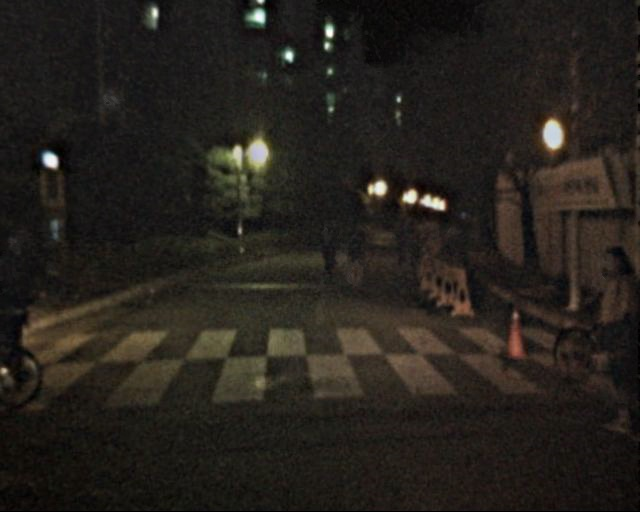person: (576, 246, 640, 430), (310, 220, 338, 289), (339, 221, 367, 289), (390, 226, 412, 280), (402, 227, 422, 276)
